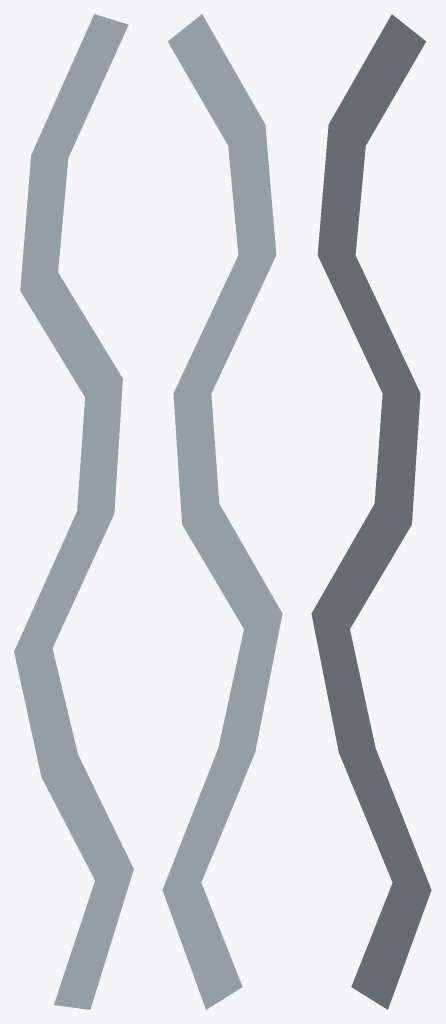
Rendered from 2085_ThunderWave_2Rounds_CosmeticColumn_66_0.fbx.
3 renders of one model, left to right at view 1: azimuth 30°, elevation 25°; view 2: azimuth 210°, elevation 25°; view 3: azimuth 330°, elevation 25°, orthographic.
Visible parts, largest first — view 1: PART_CosmeticColumn_66_0; view 2: PART_CosmeticColumn_66_0; view 3: PART_CosmeticColumn_66_0.
Part boxes in pixels (<box>): PART_CosmeticColumn_66_0: <box>14,14,133,1009</box>; PART_CosmeticColumn_66_0: <box>162,14,282,1009</box>; PART_CosmeticColumn_66_0: <box>311,14,431,1009</box>.
Bounding box in the file's own units: 15.39 × 122 × 1.99e-05.
